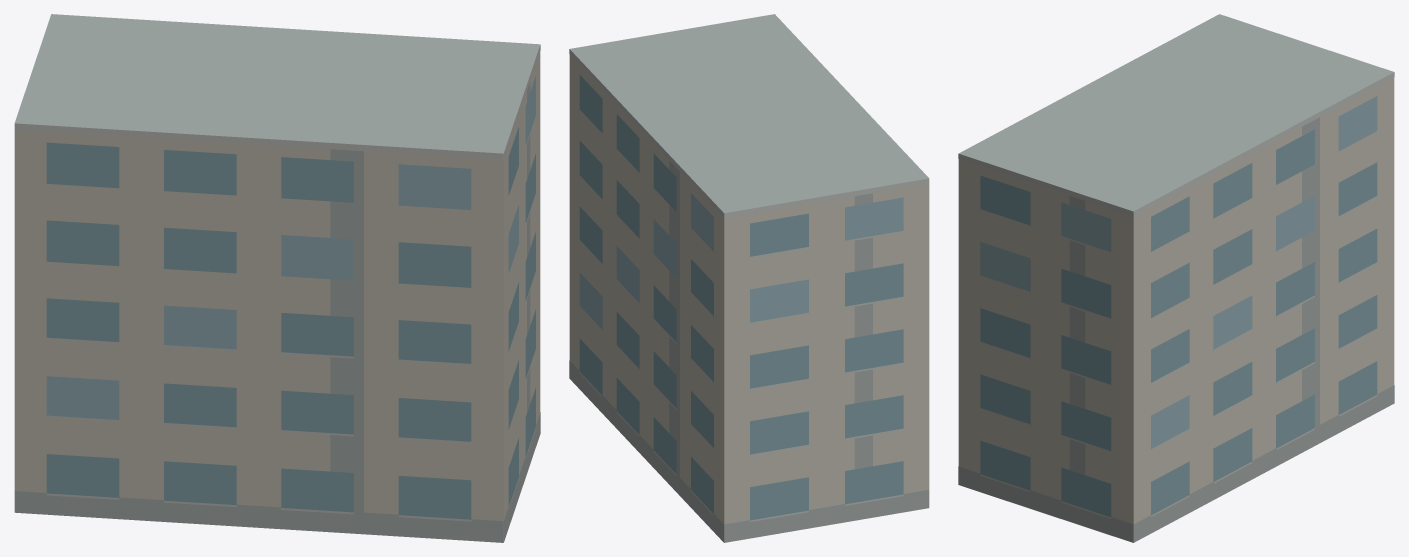
The model's file is survey-upis-32612074.glb.
3 views of the same model, side by side, from view 1: azimuth 30°, elevation 25°; view 2: azimuth 150°, elevation 25°; view 3: azimuth 270°, elevation 25° (orthographic). The views are drawn at different scales.
Parts seen in each view (by area): view 1: survey-upis-32612074.tmp; view 2: survey-upis-32612074.tmp; view 3: survey-upis-32612074.tmp.
Part boxes in pixels (x1,y1,x2,y2): survey-upis-32612074.tmp: [14, 14, 540, 542]; survey-upis-32612074.tmp: [569, 14, 929, 542]; survey-upis-32612074.tmp: [958, 14, 1394, 542].
Bounding box in the file's own units: 19.31 × 15.1 × 18.01.
